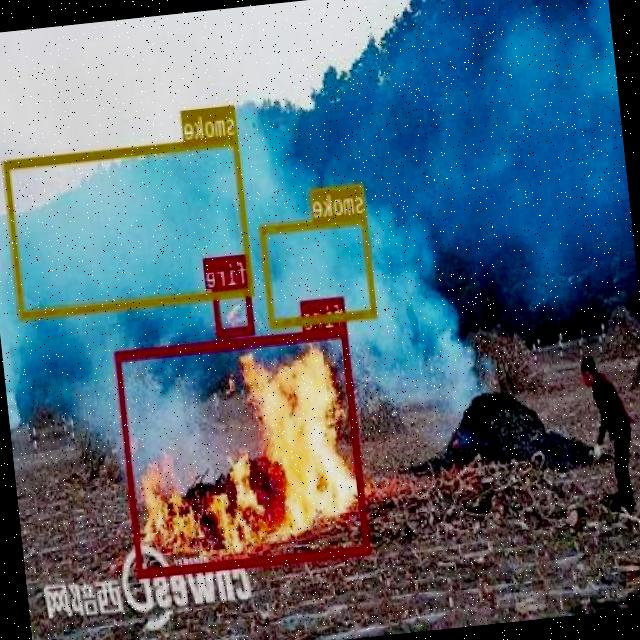fire: (115, 326, 372, 576), (212, 284, 255, 336)
smoke: (3, 134, 255, 317), (260, 211, 378, 327)
